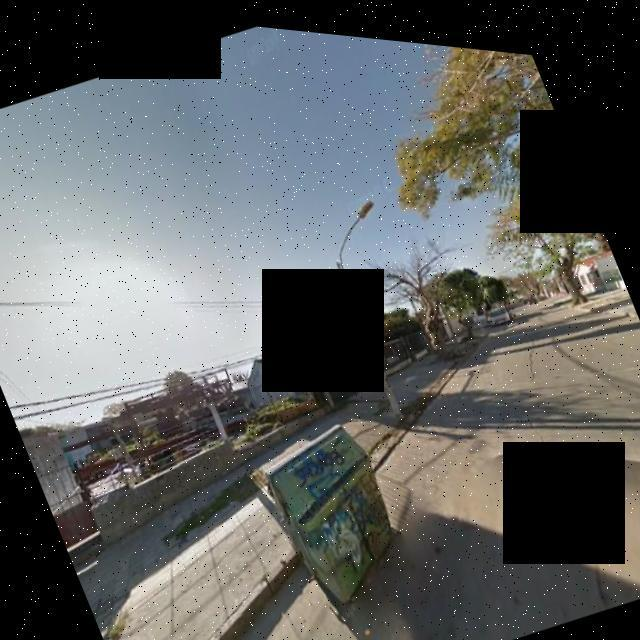bin: (231, 385, 441, 636)
